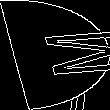M_W: (6, 29, 104, 81)
